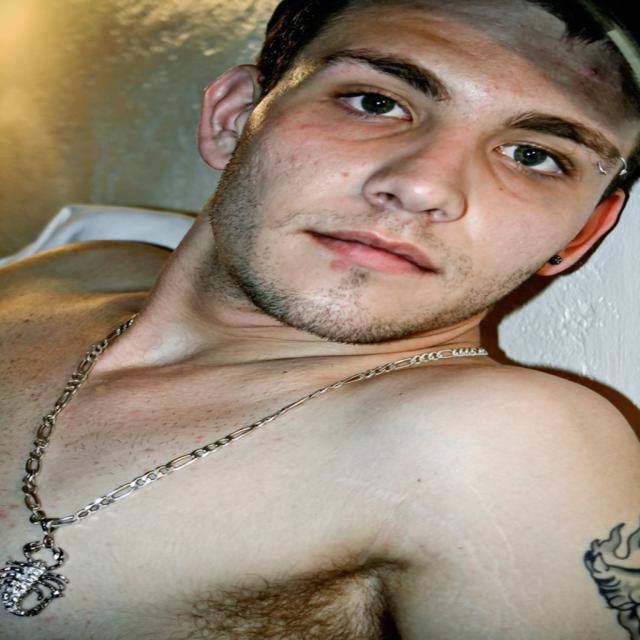closed-mouth: (315, 221, 435, 285)
